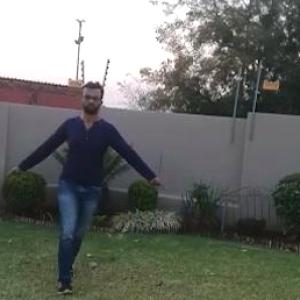land: (18, 87, 148, 266)
